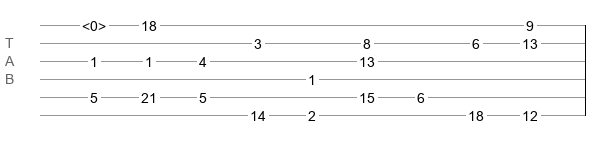1: (90, 54, 98, 64), (145, 54, 153, 64), (308, 72, 316, 82)
12: (522, 108, 538, 118)
13: (359, 54, 375, 64), (522, 36, 538, 46)
14: (250, 108, 266, 118)
15: (359, 90, 375, 100)
18: (141, 18, 157, 28), (468, 108, 484, 118)
2: (308, 108, 316, 118)
21: (141, 90, 157, 100)
3: (254, 36, 262, 46)
4: (199, 54, 207, 64)
5: (90, 90, 98, 100), (199, 90, 207, 100)
6: (417, 90, 425, 100), (472, 36, 480, 46)
8: (363, 36, 371, 46)
9: (526, 18, 534, 28)
harmonic: (82, 18, 106, 28)
